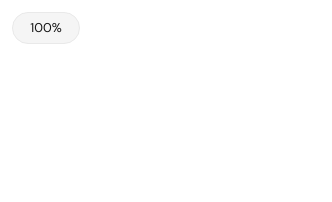
it: ZoomDropdown › renders only the presets passed in
The width and height of the screenshot is (332, 202).
Click the button with test id "zoom-field". click: [46, 28]
box: [12,12,80,44]
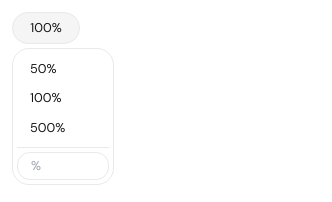
Result: the button "500%" is shown at [17,113,109,143]
